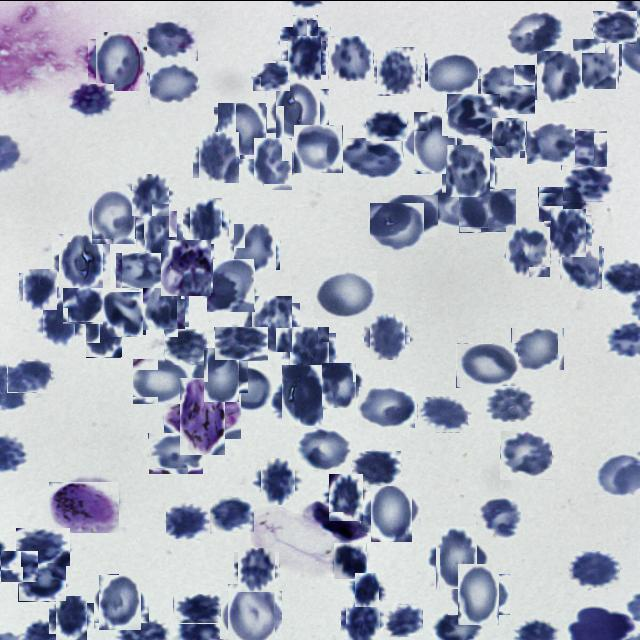gametocyte: (172, 384, 234, 446), (49, 481, 119, 532)
red blood cell: (314, 270, 377, 318), (223, 587, 278, 640), (478, 64, 536, 114), (408, 115, 462, 168), (456, 342, 518, 387), (431, 530, 483, 583), (216, 104, 269, 156), (426, 182, 488, 226), (92, 34, 144, 86), (276, 368, 328, 420), (272, 84, 324, 136), (132, 358, 189, 404), (506, 9, 563, 55), (56, 236, 106, 288), (454, 568, 504, 620), (340, 137, 403, 178), (500, 430, 552, 479), (459, 188, 516, 232), (366, 486, 416, 536), (208, 258, 255, 311), (370, 202, 424, 248), (96, 576, 145, 626), (295, 426, 351, 469), (535, 52, 584, 101), (358, 386, 415, 428), (447, 93, 500, 138), (424, 52, 480, 94), (382, 194, 438, 236), (248, 298, 296, 347), (143, 18, 198, 60), (148, 432, 203, 474), (90, 192, 138, 240), (294, 124, 342, 172), (444, 146, 492, 194), (572, 40, 620, 88), (511, 327, 564, 370), (504, 228, 552, 274), (526, 120, 576, 164), (287, 328, 333, 374), (141, 282, 187, 328), (196, 134, 242, 180), (232, 225, 278, 271), (251, 140, 296, 186), (16, 527, 70, 565), (483, 385, 538, 422), (328, 36, 374, 80), (198, 352, 244, 396), (226, 366, 271, 410), (476, 496, 521, 540), (568, 550, 620, 588), (150, 62, 198, 103), (374, 48, 418, 92), (561, 128, 607, 169), (18, 562, 66, 601), (102, 292, 144, 336), (417, 396, 468, 432), (214, 326, 268, 360), (351, 450, 401, 486), (562, 166, 613, 201), (115, 252, 164, 288), (561, 246, 603, 288), (547, 211, 589, 253), (38, 303, 79, 344), (257, 460, 298, 501), (236, 549, 277, 590), (538, 186, 586, 221), (140, 213, 180, 254), (367, 316, 408, 356), (326, 477, 366, 518), (319, 365, 359, 405), (130, 174, 170, 214), (164, 328, 207, 365), (209, 496, 254, 531), (187, 200, 226, 240), (166, 503, 210, 538), (343, 601, 382, 640), (284, 38, 324, 76), (68, 82, 114, 115), (593, 10, 637, 43), (52, 598, 90, 636), (286, 20, 324, 58), (21, 270, 59, 308), (64, 286, 102, 324), (174, 593, 222, 623), (7, 360, 51, 392), (490, 118, 526, 156), (366, 108, 407, 140), (332, 542, 368, 578), (85, 321, 122, 356), (384, 604, 423, 636), (0, 550, 38, 582), (252, 60, 290, 91), (352, 574, 382, 604)
trophozoite: (160, 240, 212, 294)
